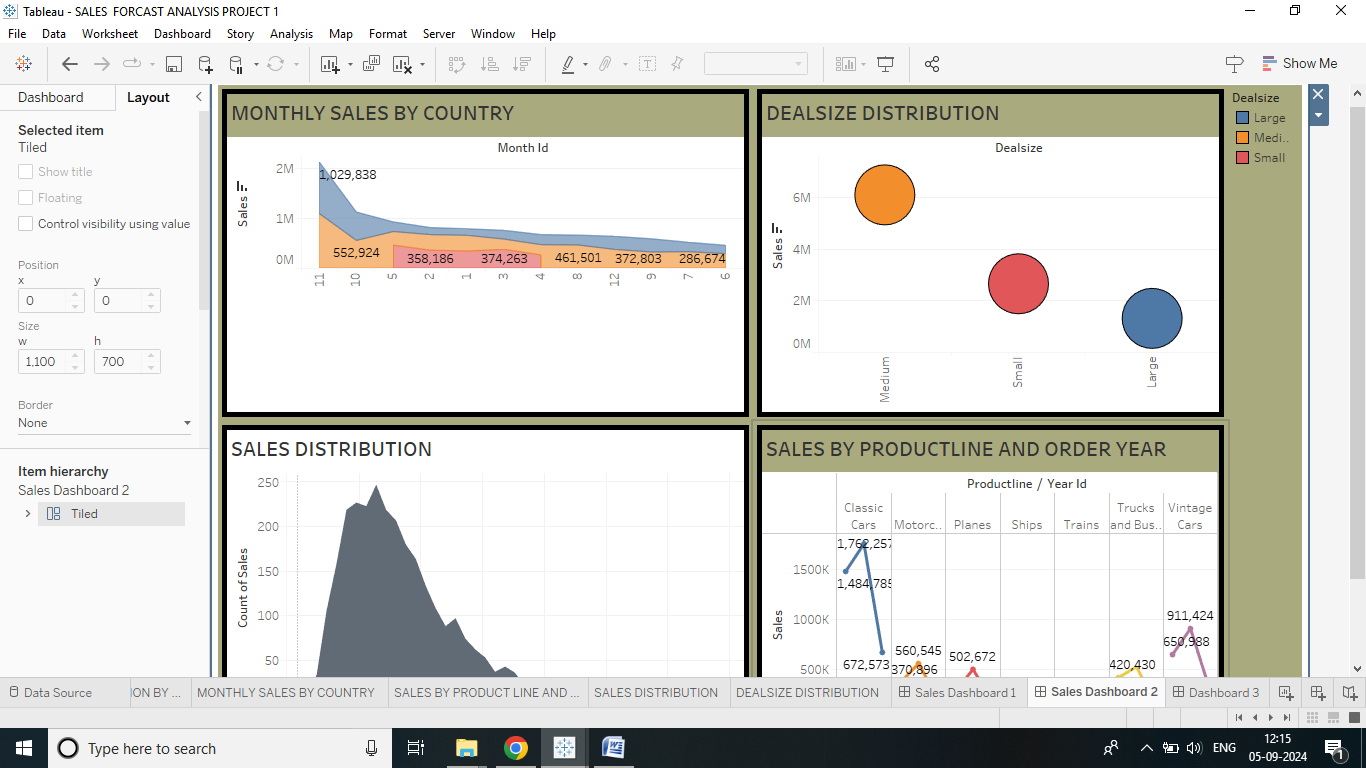

This screenshot's page, from the dashboard's own definition file:
{"tool":"tableau","page":{"name":"Sales Dashboard 2","canvas":[1100,700],"ordinal":2},"visuals":[{"type":"worksheet","title":"MONTHLY SALES BY COUNTRY","mark":"Area","rows":["SALES"],"cols":["MONTH_ID"],"box":[8,8,535,336]},{"type":"worksheet","title":"DEALSIZE DISTRIBUTION","mark":"Pie","rows":["SALES"],"cols":["DEALSIZE"],"box":[543,8,475,336]},{"type":"legend","title":"DEALSIZE DISTRIBUTION","param":"[federated.071er9i0nj29bg1fdc0hl1h44dlx].[none:DEALSIZE:nk]","box":[1018,8,74,178]},{"type":"worksheet","title":"SALES DISTRIBUTION","mark":"Polygon","rows":["SALES"],"cols":["Sales (bin)"],"box":[8,344,535,348]},{"type":"worksheet","title":"SALES BY PRODUCT LINE AND ORDER YEAR","mark":"Line","rows":["SALES"],"cols":["PRODUCTLINE","YEAR_ID"],"box":[543,344,475,348]}]}

Visuals, with their boxes on the page's 1100x700 design canvas (x1, y1, x2, y2). These are canvas units, not pixel positions in the 1366x768 screenshot, which may show the page scaled, cropped or inside an application window:
"MONTHLY SALES BY COUNTRY" worksheet (Area marks): pyautogui.locateOnScreen(8, 8, 543, 344)
"DEALSIZE DISTRIBUTION" worksheet (Pie marks): pyautogui.locateOnScreen(543, 8, 1018, 344)
"DEALSIZE DISTRIBUTION" legend: pyautogui.locateOnScreen(1018, 8, 1092, 186)
"SALES DISTRIBUTION" worksheet (Polygon marks): pyautogui.locateOnScreen(8, 344, 543, 692)
"SALES BY PRODUCT LINE AND ORDER YEAR" worksheet (Line marks): pyautogui.locateOnScreen(543, 344, 1018, 692)
